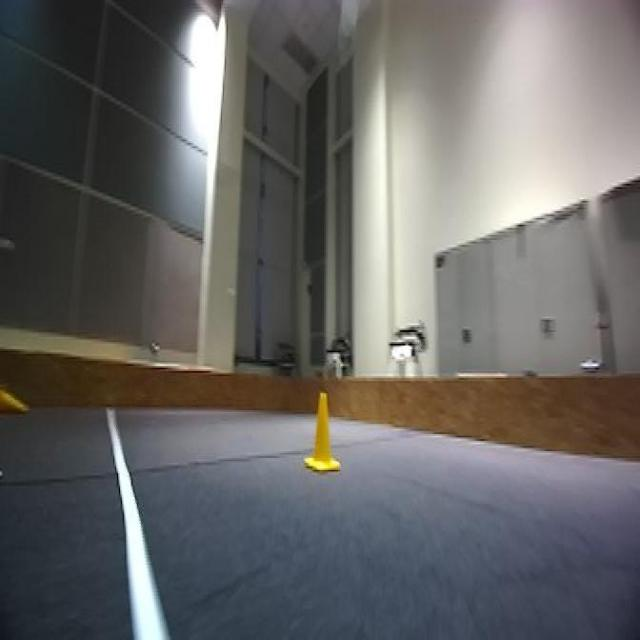frc_cone: (306, 396, 344, 475), (0, 383, 25, 414)
